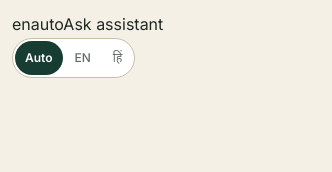
Scenario: LanguageProvider › restores English when the user picks English again
Click the button "हिं" at (118, 58), box [103, 41, 132, 75]
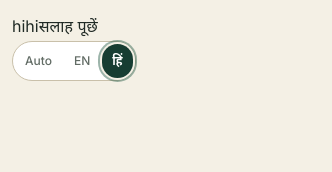
Click the button "EN" at (82, 61), box [64, 44, 100, 78]
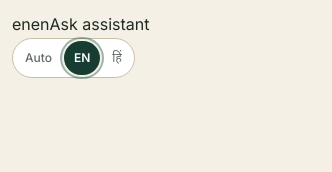
Result: the text with test id "lang" reads "en" at [12, 14, 31, 34]
Result: the text with test id "nav-label" reads "Ask assistant" at [50, 14, 150, 34]
